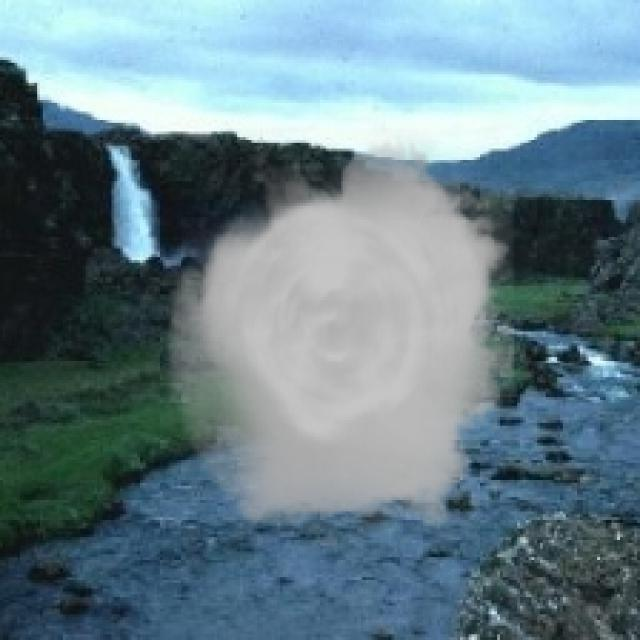smoke: (166, 128, 514, 546)
